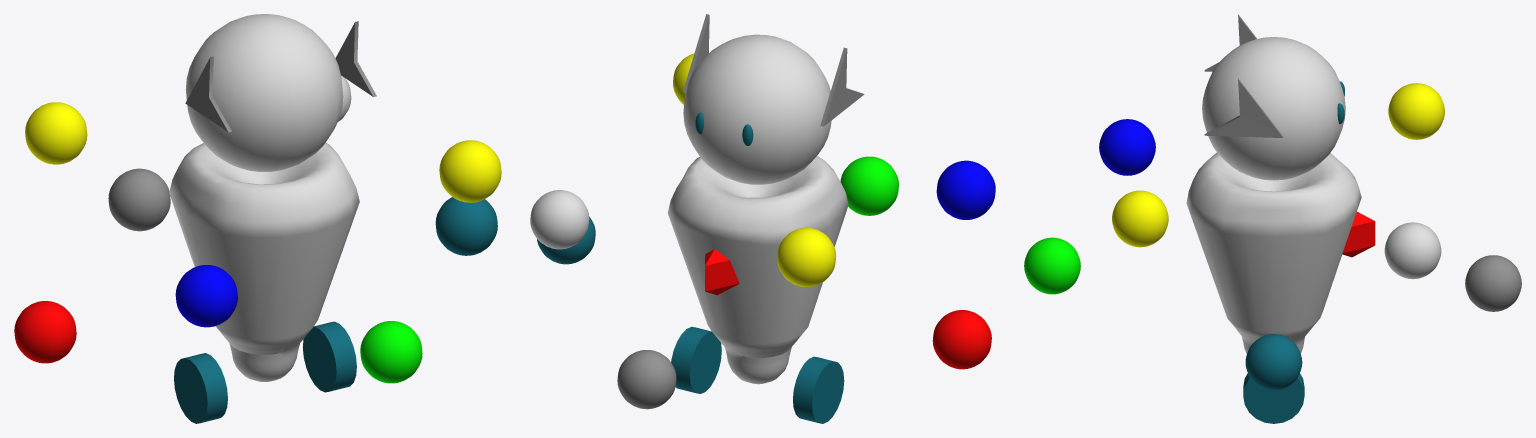
Rendered from enemy02.obj.
3 renders of one model, left to right at view 1: azimuth 30°, elevation 25°; view 2: azimuth 150°, elevation 25°; view 3: azimuth 270°, elevation 25°, orthographic. The views are drawn at different scales.
Visible parts, largest first — view 1: pSphere4, pSphere3, pSphere14, pSphere11, pSphere12, pSphere15, pSphere13, pSphere16, pCylinder1, pCylinder2, pSphere6, pSphere3 pCube2 (+1 smaller); view 2: pSphere4, pSphere3, pSphere10, pSphere16, pSphere13, pSphere11, pSphere12, pCylinder1, pSphere15, pCylinder2, pSphere3 pCube2, pSphere4 pSphere9 (+3 smaller); view 3: pSphere4, pSphere3, pSphere10, pSphere12, pSphere15, pSphere14, pSphere6, pSphere11, pSphere16, pCylinder2, pSphere3 pCube1, pSphere4 pSphere9.
Part boxes in pixels (box(x1,y1,x2,y2)): pSphere4: box(169, 142, 359, 381); pSphere3: box(185, 14, 343, 171); pSphere14: box(439, 140, 501, 202); pSphere11: box(108, 168, 170, 231); pSphere12: box(25, 102, 87, 164); pSphere15: box(360, 321, 422, 383); pSphere13: box(14, 301, 76, 363); pSphere16: box(175, 265, 237, 327); pCylinder1: box(174, 353, 227, 423); pCylinder2: box(302, 321, 356, 392); pSphere6: box(435, 197, 497, 255); pSphere3 pCube2: box(185, 56, 231, 132); pSphere4: box(667, 156, 848, 384); pSphere3: box(683, 34, 831, 184); pSphere10: box(530, 190, 589, 249); pSphere16: box(936, 160, 995, 219); pSphere13: box(932, 310, 991, 369); pSphere11: box(617, 350, 676, 409); pSphere12: box(777, 227, 836, 286); pCylinder1: box(793, 356, 844, 423); pSphere15: box(840, 156, 898, 215); pCylinder2: box(671, 326, 721, 393); pSphere3 pCube2: box(820, 47, 864, 126); pSphere4 pSphere9: box(705, 249, 739, 295); pSphere4: box(1186, 152, 1361, 353); pSphere3: box(1202, 37, 1345, 180); pSphere10: box(1384, 222, 1441, 279); pSphere12: box(1388, 83, 1444, 139); pSphere15: box(1024, 237, 1080, 294); pSphere14: box(1112, 190, 1168, 247); pSphere6: box(1245, 334, 1302, 390); pSphere11: box(1465, 255, 1521, 311); pSphere16: box(1099, 119, 1155, 175); pCylinder2: box(1243, 373, 1304, 423); pSphere3 pCube1: box(1204, 78, 1283, 137); pSphere4 pSphere9: box(1342, 211, 1375, 257).
Size of the model in its own units: 6.9 by 5.33 by 6.93.
